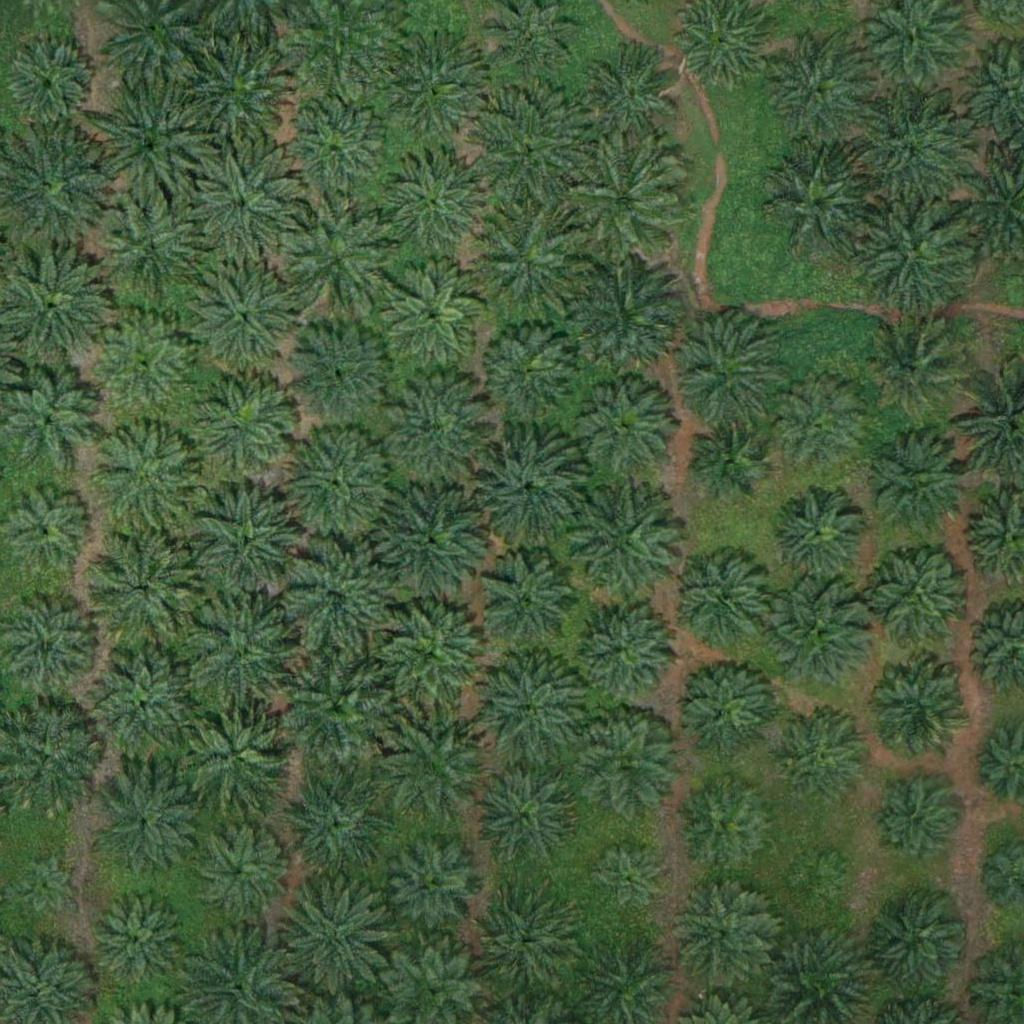Kelapa_Sawit: (565, 142, 678, 256), (669, 316, 782, 430), (861, 537, 974, 651), (759, 576, 872, 690), (90, 770, 203, 884), (91, 423, 204, 536), (83, 532, 196, 645), (176, 33, 289, 146), (279, 95, 392, 208), (283, 202, 396, 315), (280, 316, 393, 429), (383, 370, 496, 483), (375, 480, 488, 593), (854, 96, 967, 209), (860, 887, 973, 1000), (476, 655, 589, 768), (377, 601, 490, 714), (188, 600, 301, 713), (179, 699, 292, 812), (88, 651, 201, 764), (374, 27, 486, 141), (378, 142, 490, 256), (473, 94, 585, 208), (470, 202, 582, 316), (570, 255, 682, 369), (567, 370, 679, 484), (94, 91, 206, 204), (96, 193, 208, 306), (185, 152, 297, 265), (186, 263, 298, 376), (191, 487, 303, 600), (279, 430, 391, 543), (280, 542, 392, 655), (471, 423, 583, 536), (569, 488, 681, 601), (763, 147, 875, 260), (859, 200, 971, 313), (864, 431, 976, 544), (379, 712, 491, 825), (282, 652, 394, 765), (278, 764, 390, 877), (280, 876, 392, 989), (869, 321, 969, 422), (769, 44, 869, 145), (92, 314, 192, 415), (192, 374, 292, 475), (382, 261, 482, 362), (477, 552, 577, 653), (577, 48, 677, 149), (776, 706, 876, 807), (674, 655, 774, 756), (678, 774, 778, 875), (670, 882, 770, 983), (574, 600, 674, 701), (575, 712, 675, 813), (475, 761, 575, 862), (472, 894, 572, 995), (385, 838, 485, 939), (478, 318, 578, 418), (667, 551, 767, 651), (769, 374, 869, 474), (766, 486, 866, 586), (866, 661, 966, 761), (189, 820, 289, 920), (87, 889, 187, 989), (7, 41, 95, 129), (5, 487, 92, 575), (872, 777, 959, 865), (690, 420, 765, 496), (588, 844, 663, 919), (785, 848, 847, 911), (14, 853, 76, 916)
